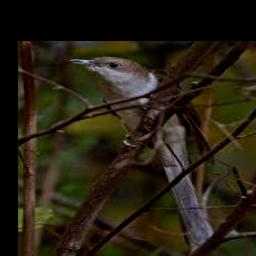Cuckoo: (72, 56, 217, 243)
